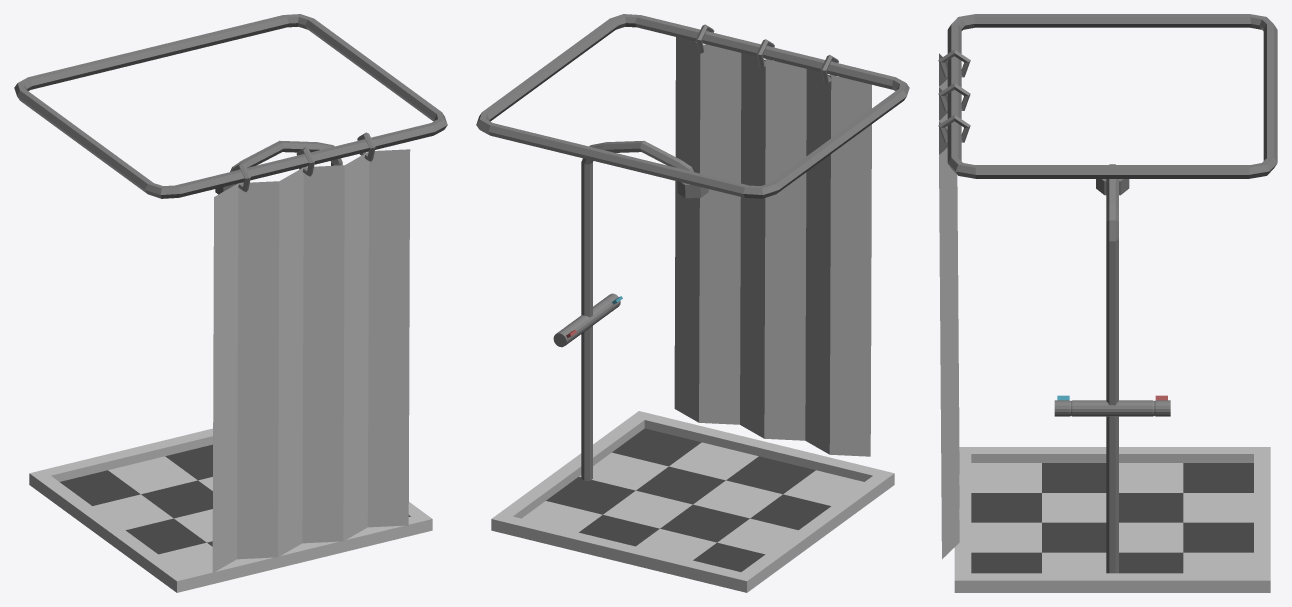
Rendered from Shower.fbx.
The picture shows the model from 3 angles, left to right: view 1: azimuth 30°, elevation 25°; view 2: azimuth 150°, elevation 25°; view 3: azimuth 270°, elevation 25°; orthographic projection. The views are drawn at different scales.
Visible parts, largest first — view 1: shower_base; view 2: shower_base; view 3: shower_base.
Boxes of the visible parts, box(x1,y1,x2,y2) form: shower_base: box(14, 14, 447, 592); shower_base: box(476, 14, 909, 592); shower_base: box(938, 14, 1277, 592).
Size of the model in its own units: 235 by 310 by 215.
